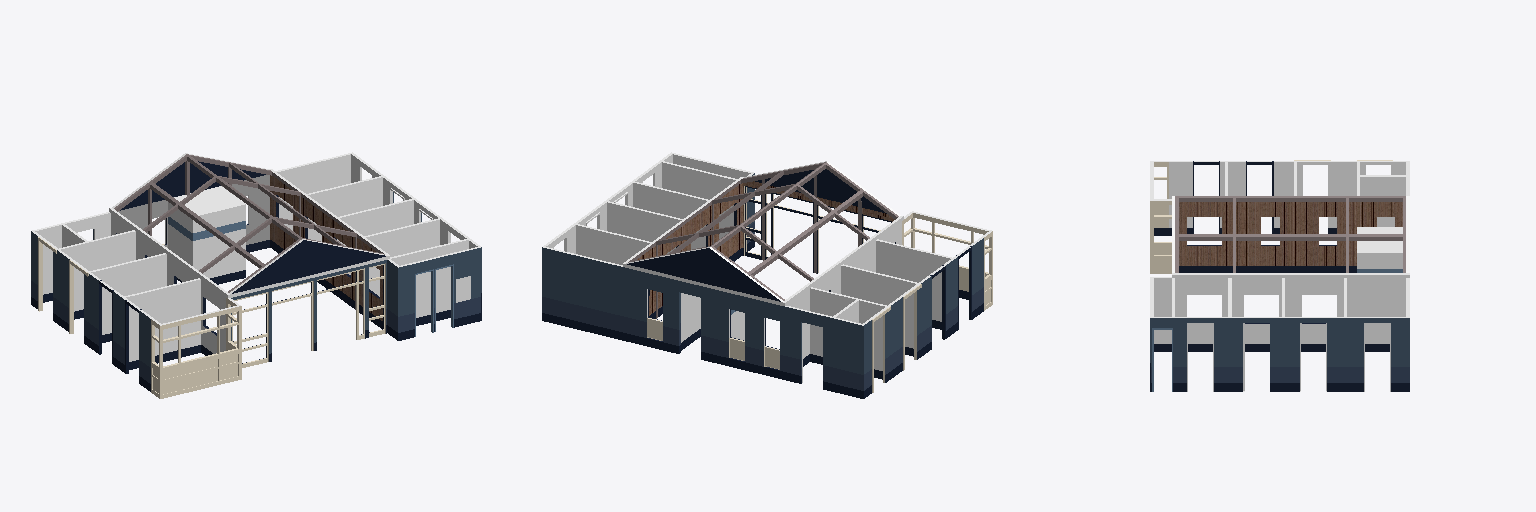
The picture shows the model from 3 angles: view 1: azimuth 30°, elevation 25°; view 2: azimuth 150°, elevation 25°; view 3: azimuth 270°, elevation 25°; orthographic projection.
Visible parts, largest first — view 1: -Visio_284_Patio-Fixed-; view 2: -Visio_284_Patio-Fixed-; view 3: -Visio_284_Patio-Fixed-.
Part boxes in pixels (x1,y1,x2,y2): -Visio_284_Patio-Fixed-: (31,152,481,398); -Visio_284_Patio-Fixed-: (542,152,992,398); -Visio_284_Patio-Fixed-: (1150,160,1409,391).
Size of the model in its own units: 11.94 by 4.02 by 8.3.
Materials: 10 (1 with a texture image).